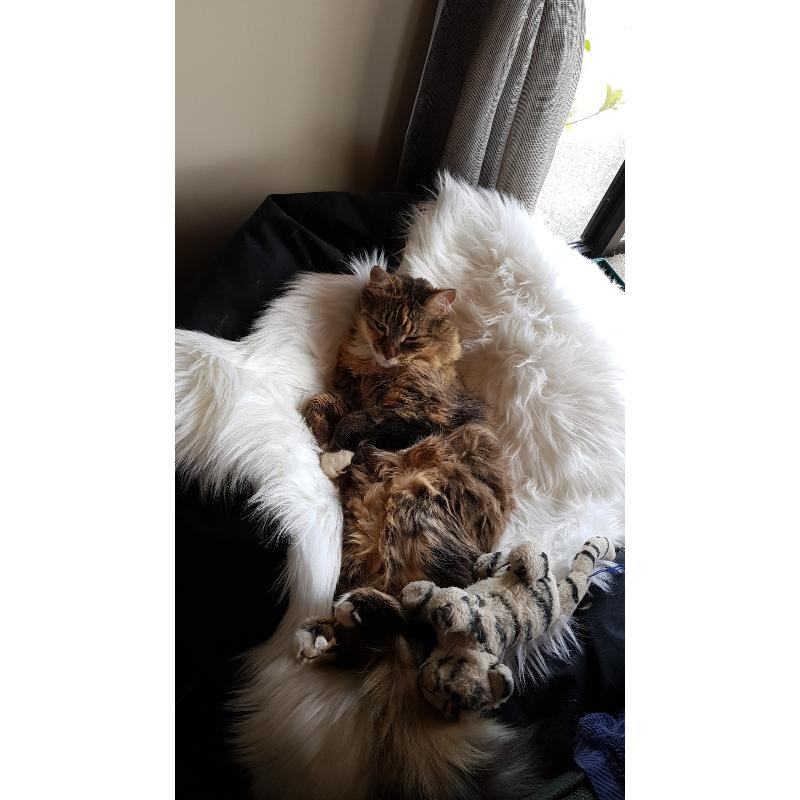yellow: (290, 264, 520, 656)
